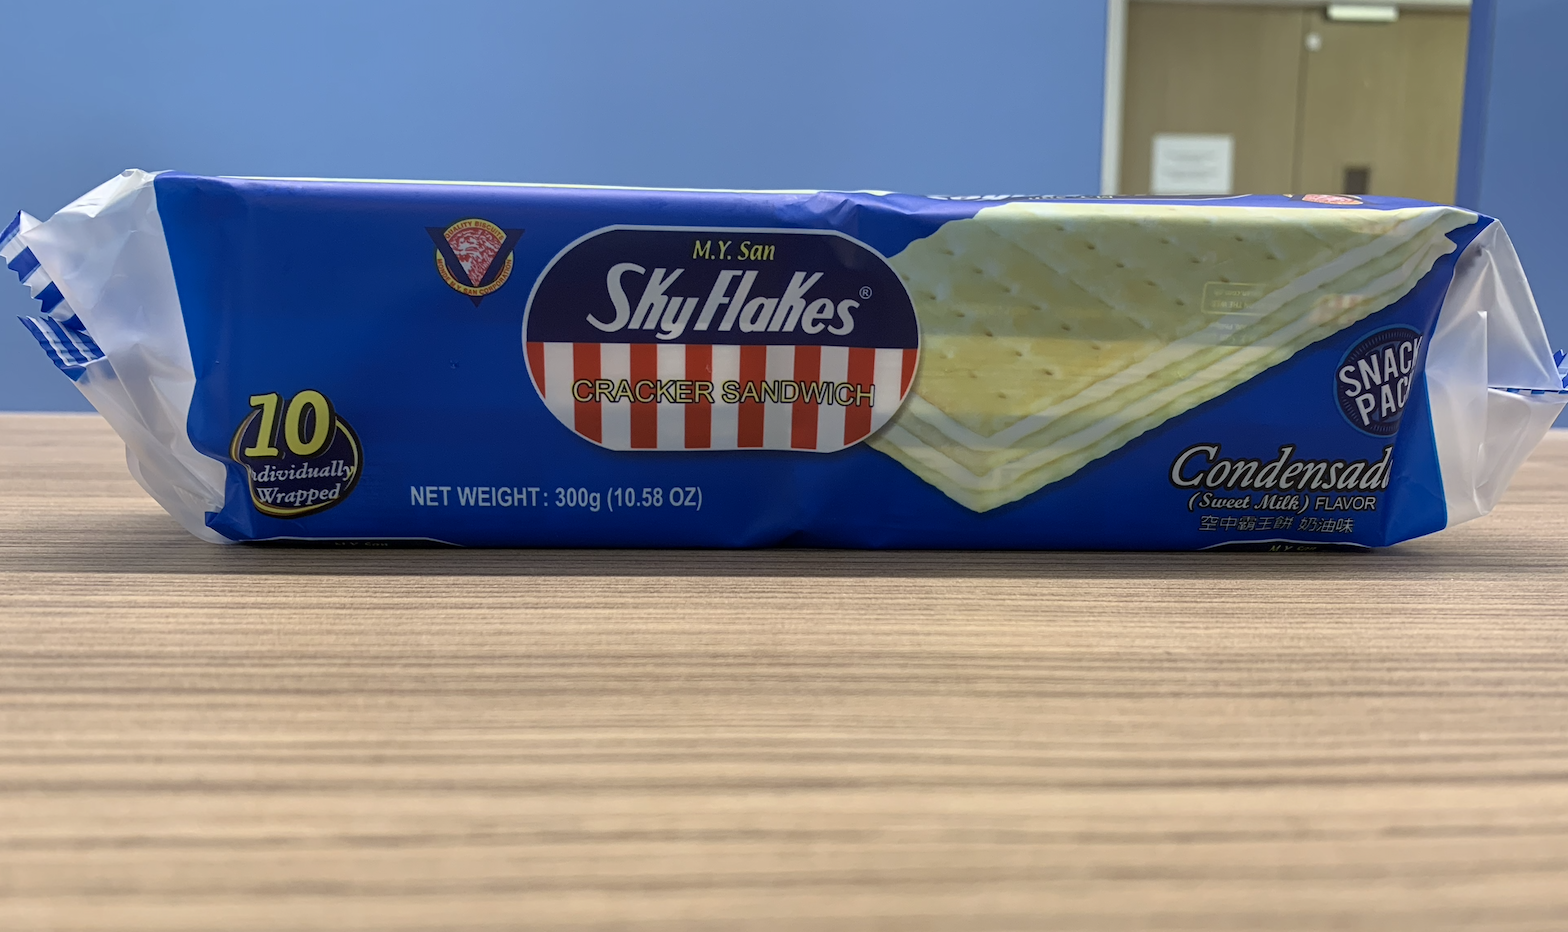crackers_450g: (201, 209, 1430, 534)
